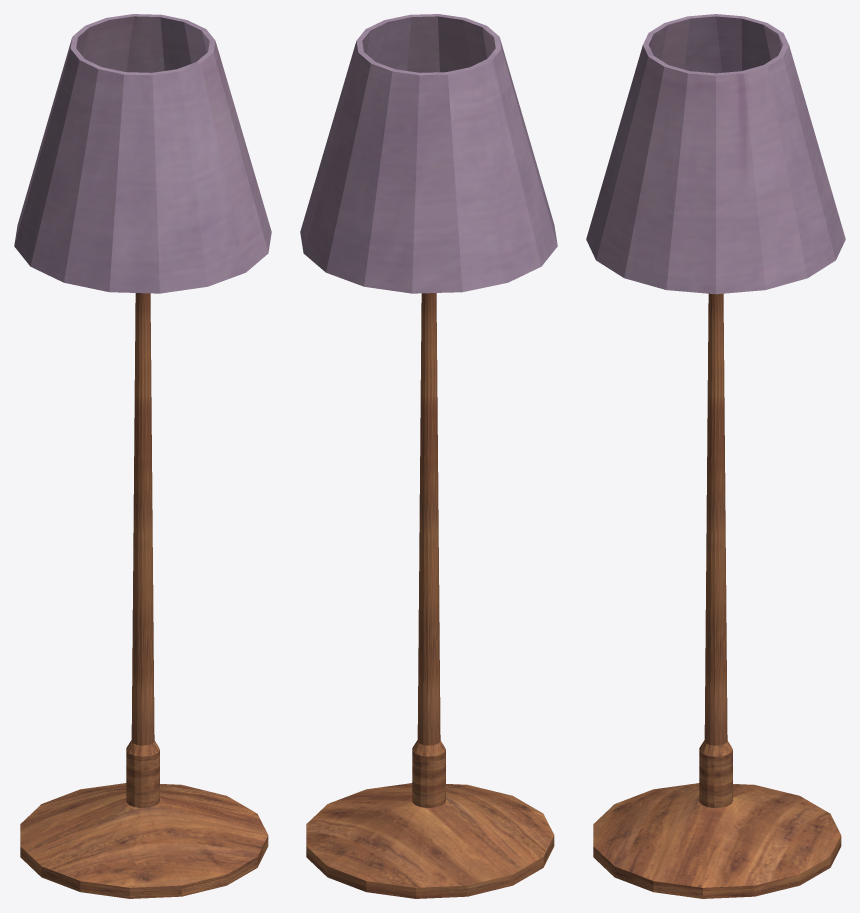
Rendered from lamp.fbx.
The picture shows the model from 3 angles, left to right: view 1: azimuth 30°, elevation 25°; view 2: azimuth 150°, elevation 25°; view 3: azimuth 270°, elevation 25°; orthographic projection.
Visible parts, largest first — view 1: Cylinder, Cone; view 2: Cylinder, Cone; view 3: Cylinder, Cone.
Part boxes in pixels (left/top/right/bottom): Cylinder: left=14, top=14, right=271, bottom=293; Cone: left=20, top=293, right=268, bottom=898; Cylinder: left=300, top=14, right=557, bottom=293; Cone: left=306, top=293, right=554, bottom=898; Cylinder: left=586, top=14, right=845, bottom=294; Cone: left=593, top=293, right=841, bottom=898.
Size of the model in its own units: 3.13 by 10.65 by 3.13.
